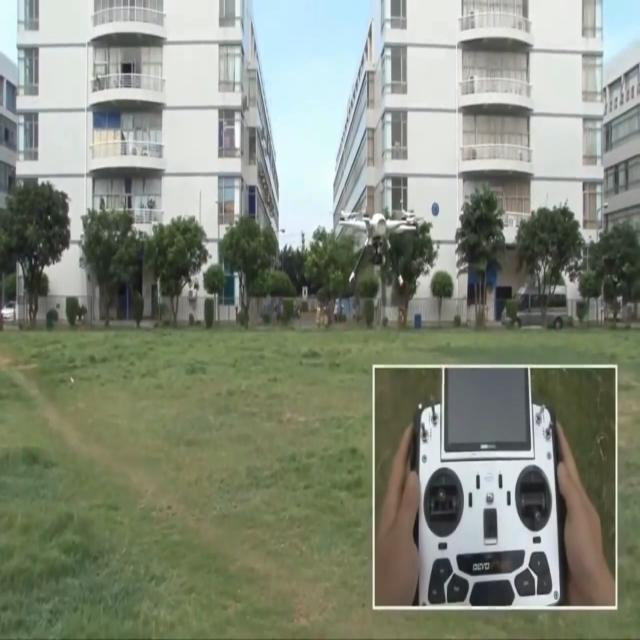drone: (335, 204, 426, 290)
